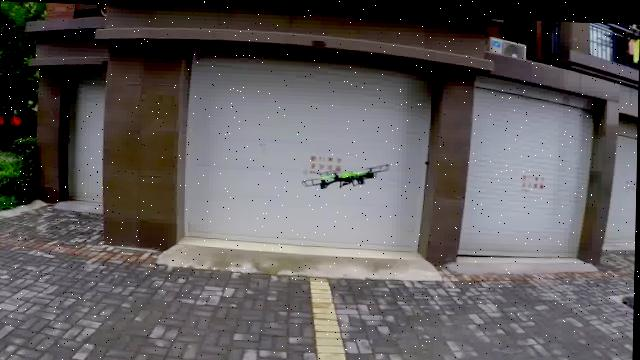drone: (302, 155, 388, 189)
